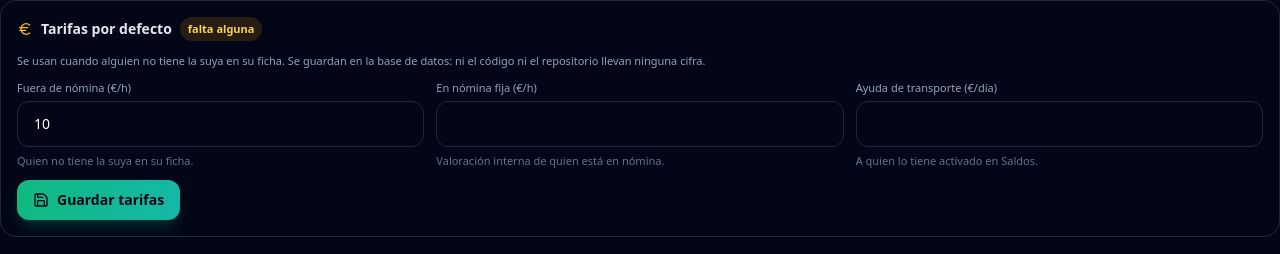
Test: TarifasPorDefecto › si no se pudo guardar (sin red o sin sesión), lo dice
Click the button "Guardar tarifas": (99, 200) [17,180,180,220]
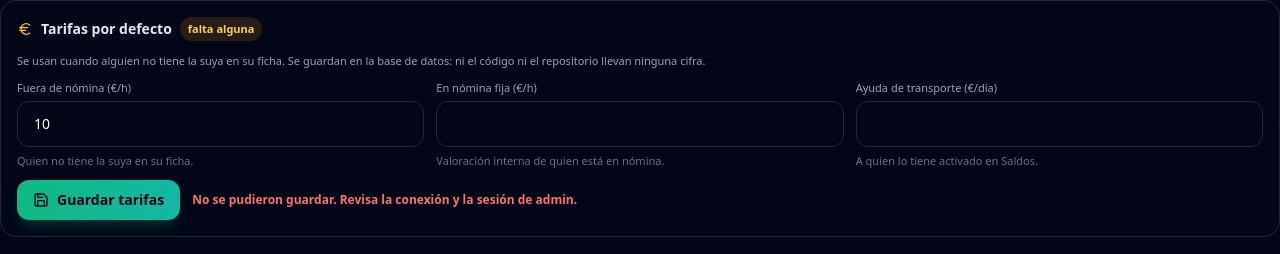
Now the message shows "No se pudieron guardar", box [192,191,577,208]
